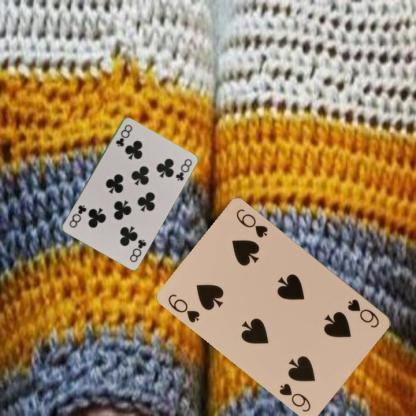6s: (344, 296, 382, 330), (166, 290, 202, 324)
8c: (126, 236, 148, 264), (113, 121, 134, 148)
